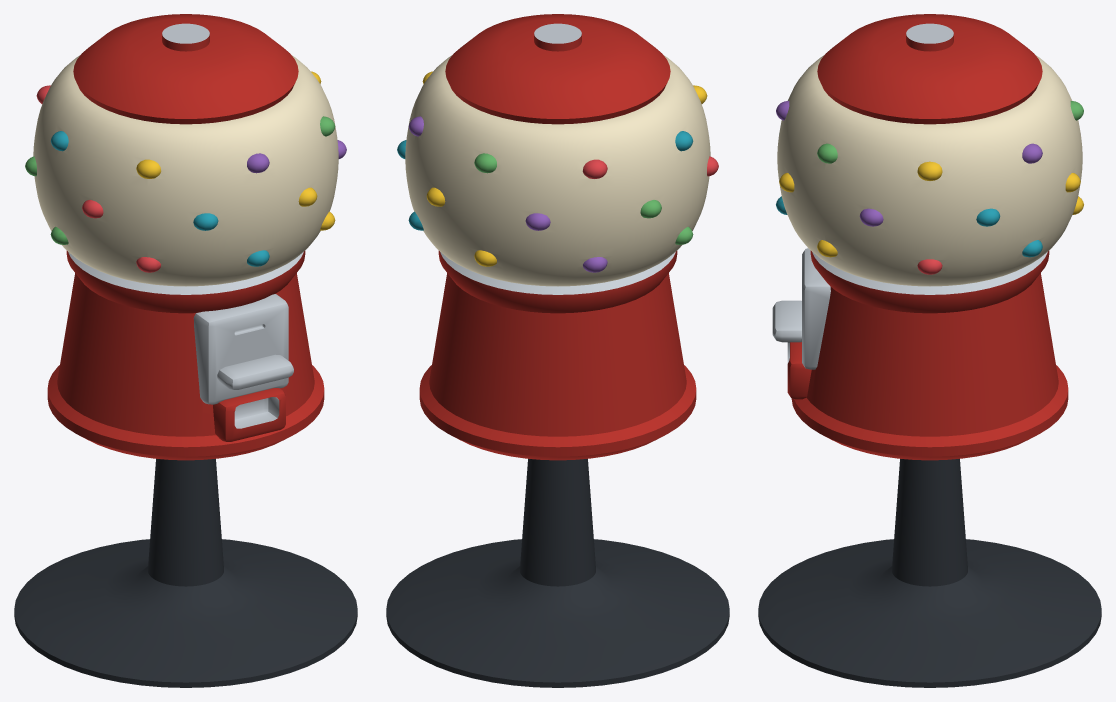
File: NEW_RECOVERY_118_LOD0.glb
The picture shows the model from 3 angles, left to right: view 1: azimuth 30°, elevation 25°; view 2: azimuth 150°, elevation 25°; view 3: azimuth 270°, elevation 25°; orthographic projection.
Visible parts, largest first — view 1: Gumball_machine; view 2: Gumball_machine; view 3: Gumball_machine.
Boxes of the visible parts, x1,y1,x2,y2 form: Gumball_machine: [14, 14, 357, 687]; Gumball_machine: [386, 14, 729, 687]; Gumball_machine: [758, 14, 1101, 687].
Size of the model in its own units: 0.486 by 0.9155 by 0.486.
